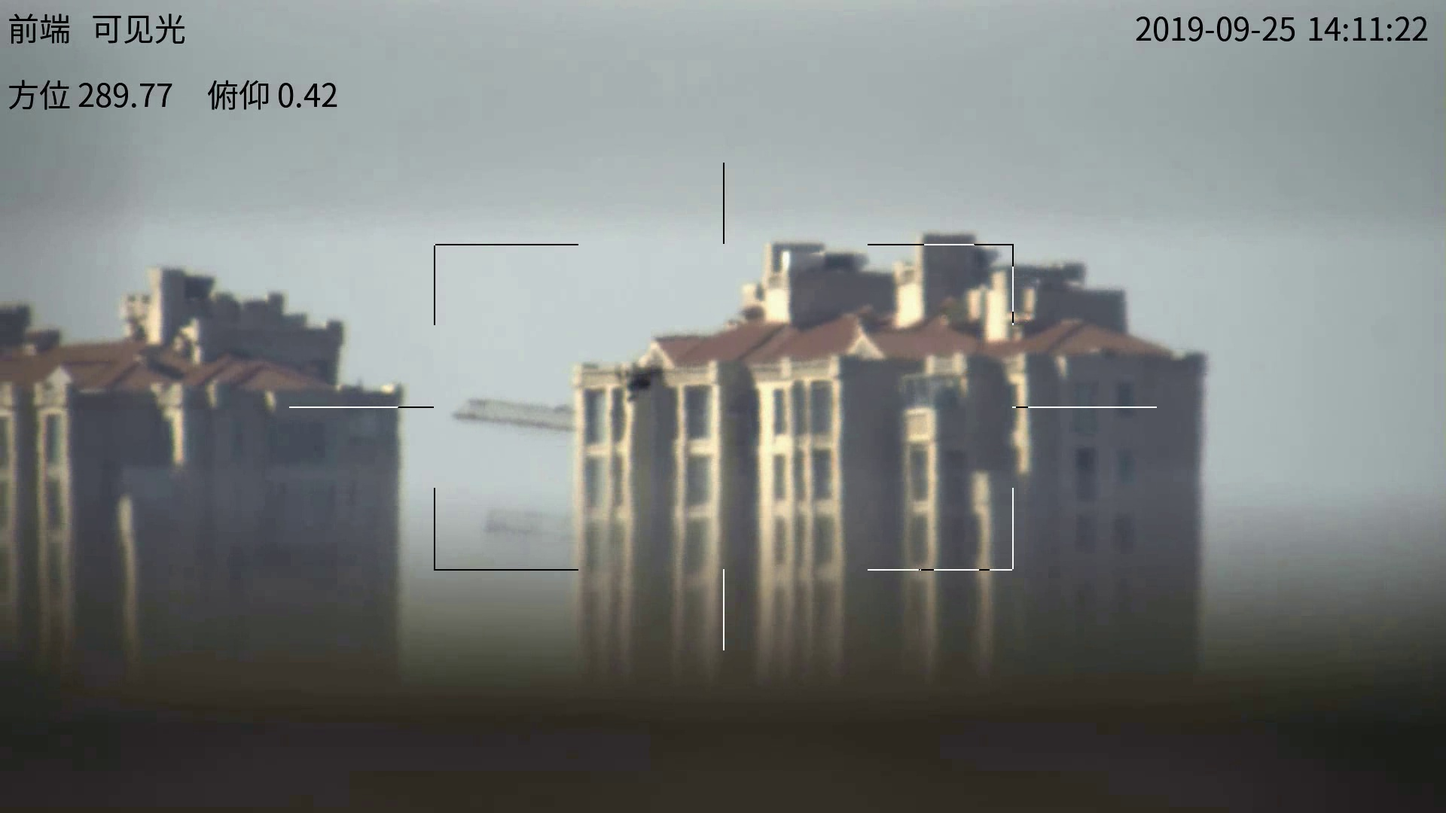drone_other: (611, 363, 681, 405)
